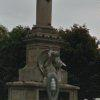Statue: (35, 35, 71, 94)
